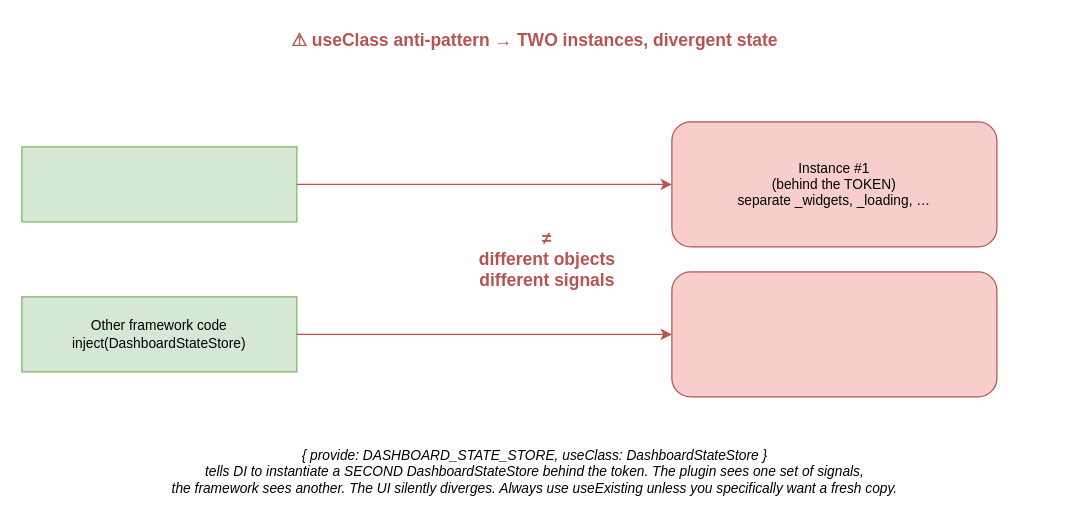
Image size: 1069x530. Some labels were removed from this diagram. The shapes that lost their labels are listed below. From the top down, each one's centre as x and y in pixels, then its label:
At [159,184]: "Plugin inject(DASHBOARD_STATE_STORE)".
At [834,334]: "Instance #2 (behind the CLASS) separate _widgets, _loading, …".
